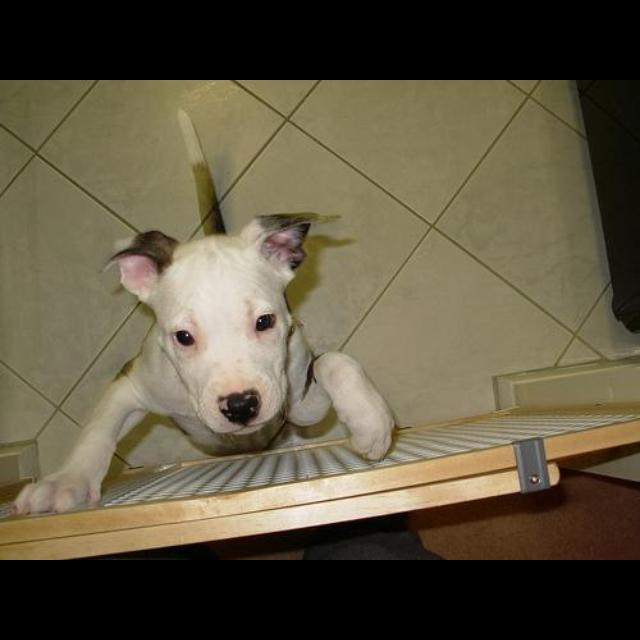staffford: (12, 211, 397, 516)
